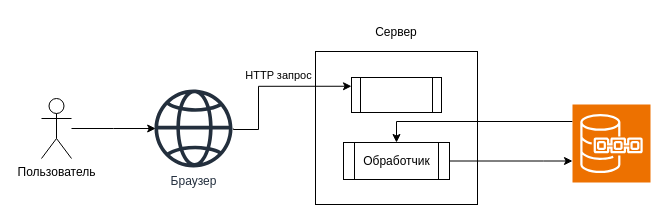
The diagram is 668 pixels wide and 222 high, and some of its shapes have lost their labels. Here are the shapes that lost their labels. From the top down, the centre of each, then its label:
(x=396, y=94): Handlers
(x=611, y=143): MariaDB
